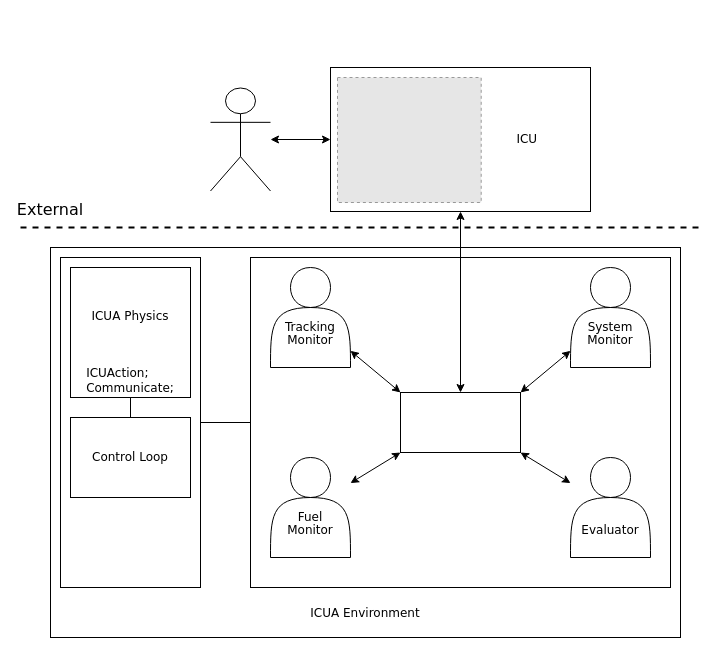
This 719x655 diagram has some shape labels left out. Grey dashed boxes stand in for pictures. The shapes that lost their labels are listed below. From the top down, each one's box as (x1, y1, x2, y2) in pixels, then its label:
(210, 87, 270, 191): user
(60, 256, 200, 588): ICUA Simulator
(400, 392, 520, 452): ICU Object
(250, 256, 670, 588): ICUA Ambient
